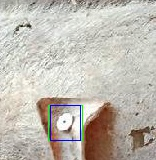text: (48, 105, 82, 140)
